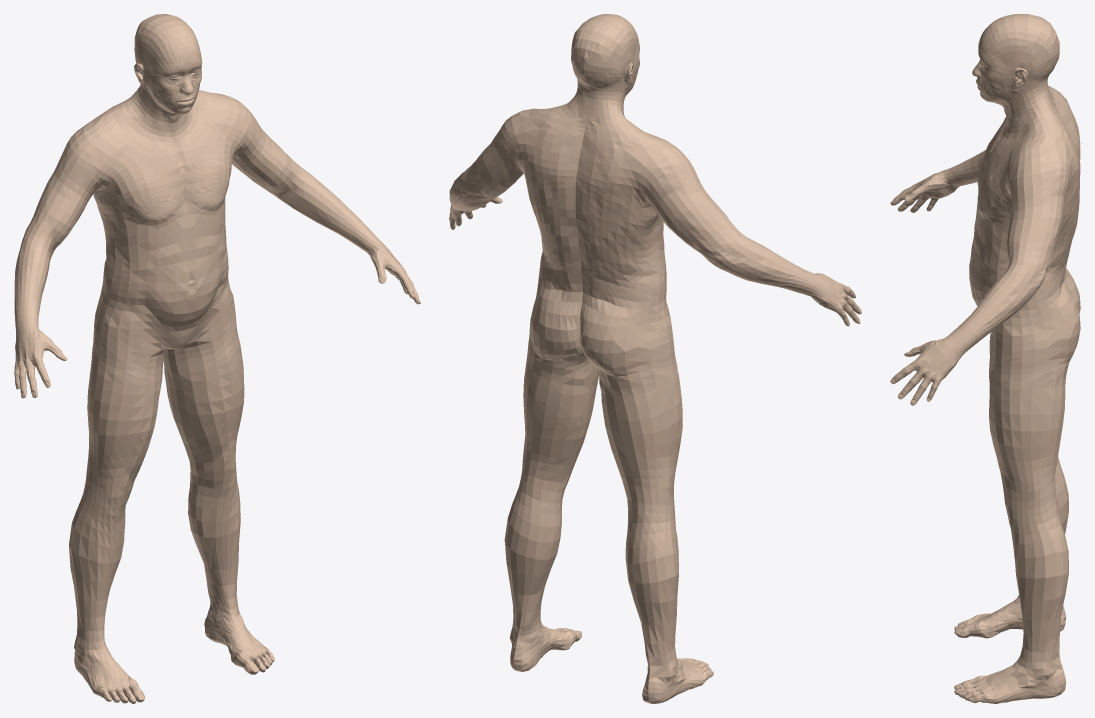
The model's file is male-mature-max-strong.glb.
3 renders of one model, left to right at view 1: azimuth 30°, elevation 25°; view 2: azimuth 150°, elevation 25°; view 3: azimuth 270°, elevation 25°, orthographic.
Parts seen in each view (by area): view 1: world; view 2: world; view 3: world.
Part boxes in pixels (box(x1,y1,x2,y2)): world: box(14, 14, 420, 703); world: box(449, 14, 861, 703); world: box(890, 14, 1080, 703).
Bounding box in the file's own units: 1.26 × 1.97 × 0.5233.
